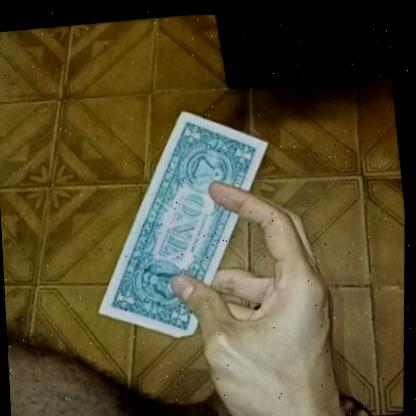one-back: (64, 87, 302, 355)
